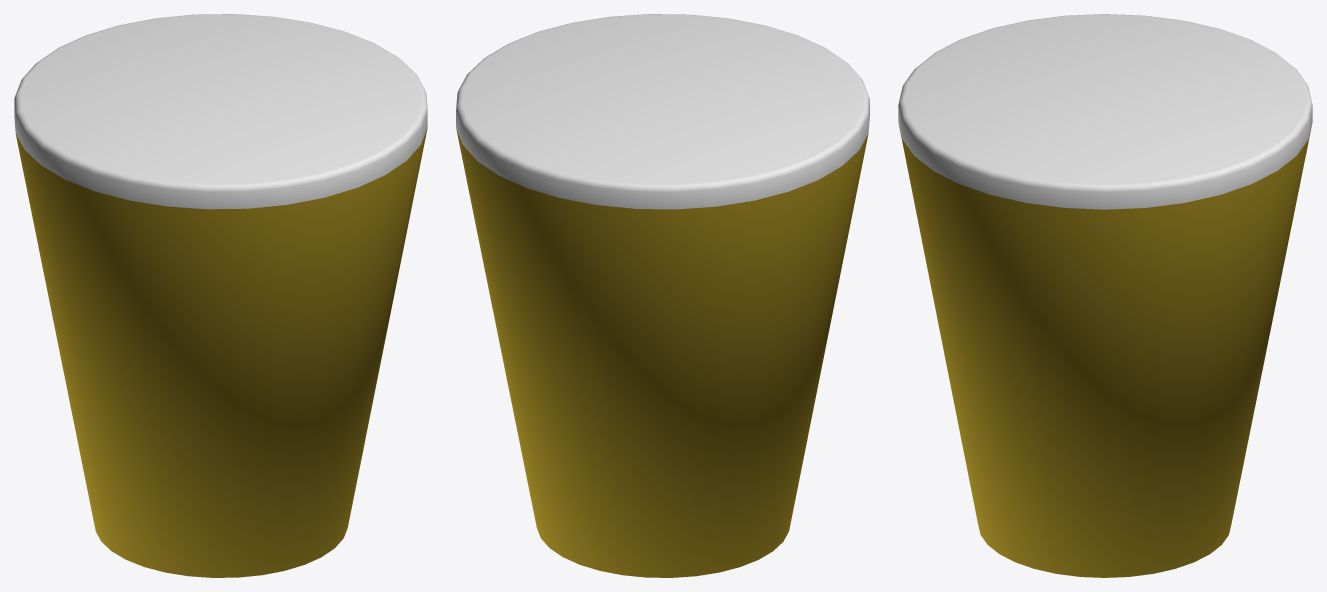
Rendered from OnlyBeer.fbx.
3 renders of one model, left to right at view 1: azimuth 30°, elevation 25°; view 2: azimuth 150°, elevation 25°; view 3: azimuth 270°, elevation 25°, orthographic.
Parts seen in each view (by area): view 1: Beer; view 2: Beer; view 3: Beer.
Part boxes in pixels (bbox=[...]): Beer: bbox=[14, 14, 427, 577]; Beer: bbox=[456, 14, 869, 577]; Beer: bbox=[898, 14, 1312, 577].
Size of the model in its own units: 332 by 376 by 332.
